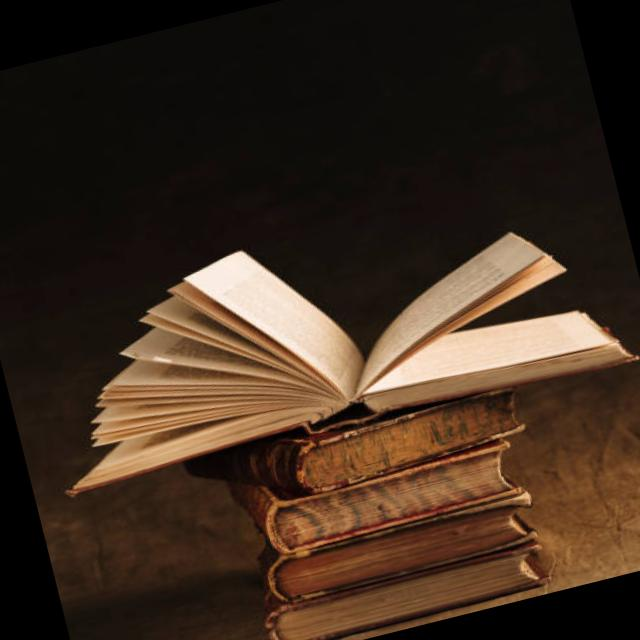electronic: (16, 160, 640, 503), (180, 376, 530, 523), (225, 412, 531, 570), (260, 494, 540, 607), (259, 540, 552, 640)
